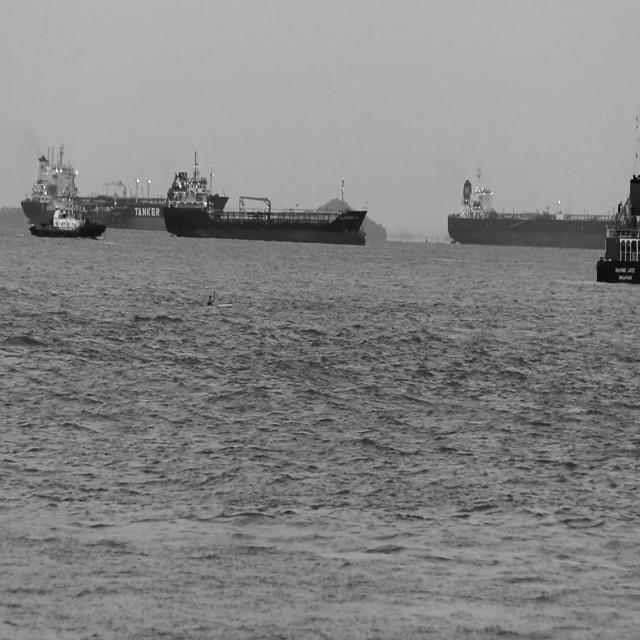ship: (162, 150, 366, 248), (448, 163, 616, 250), (20, 144, 167, 232), (595, 115, 640, 286), (27, 204, 107, 241), (360, 224, 367, 241)
